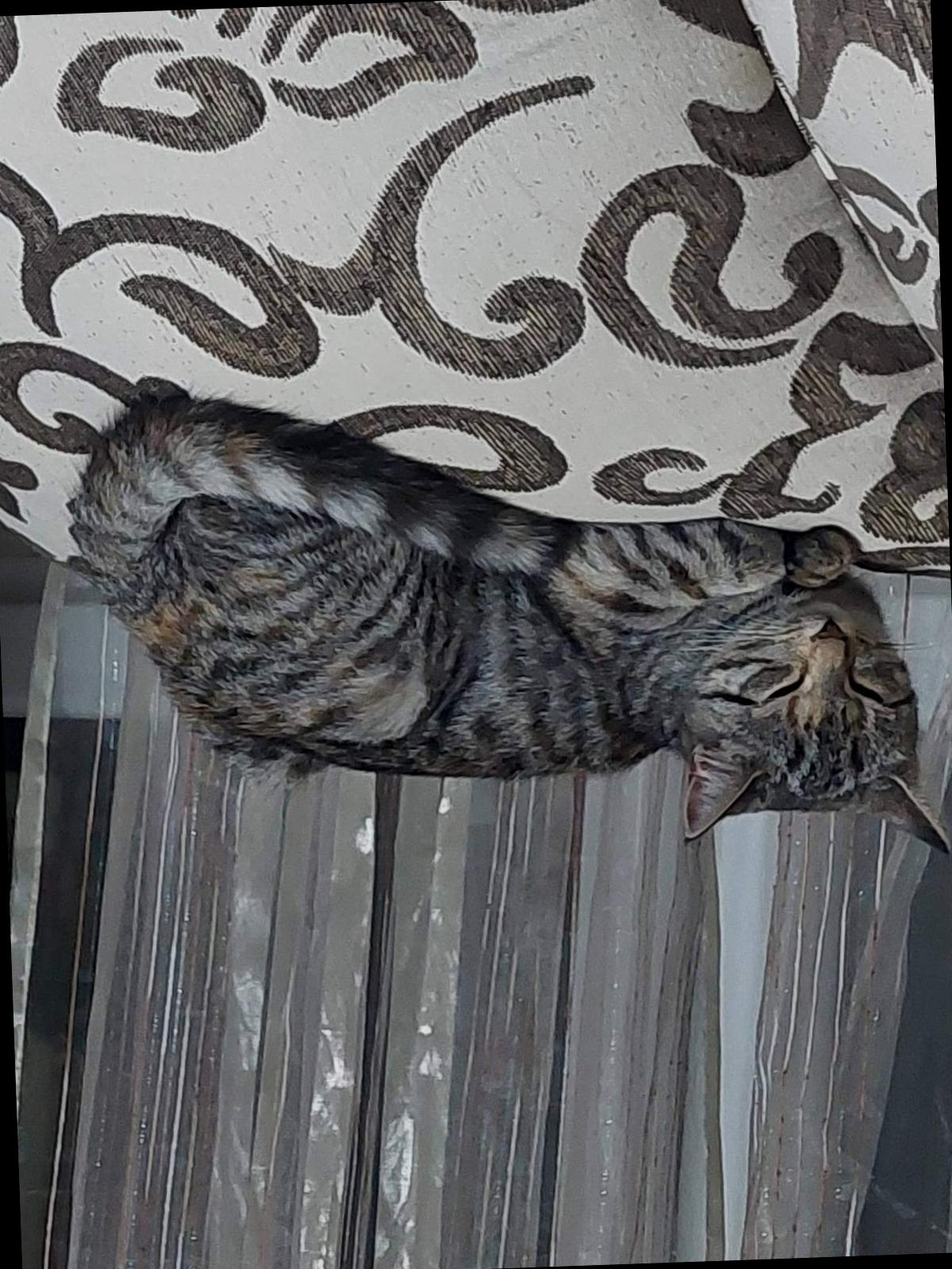macka: (70, 366, 952, 884)
